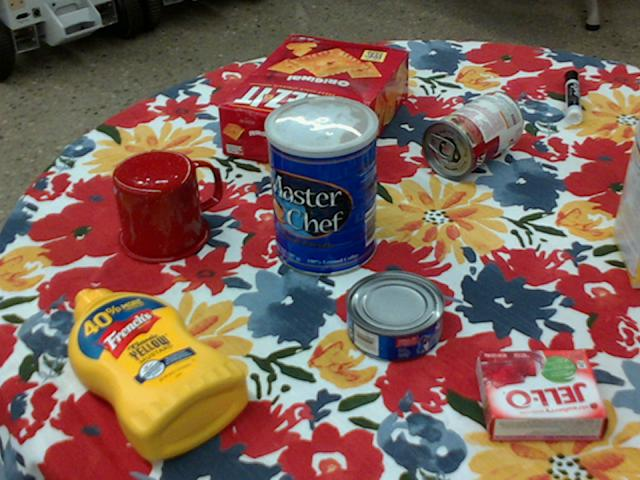cracker_box: (219, 35, 410, 177)
gelatin_box: (480, 350, 610, 440)
large_marker: (566, 70, 582, 122)
master_chef_can: (263, 94, 377, 276)
mug: (111, 149, 220, 263)
mustard_bottle: (68, 288, 249, 460)
potted_meat_can: (632, 132, 639, 167)
sugar_box: (612, 117, 639, 288)
tomato_soup_can: (423, 89, 524, 179)
tuna_fish_can: (346, 271, 445, 362)
